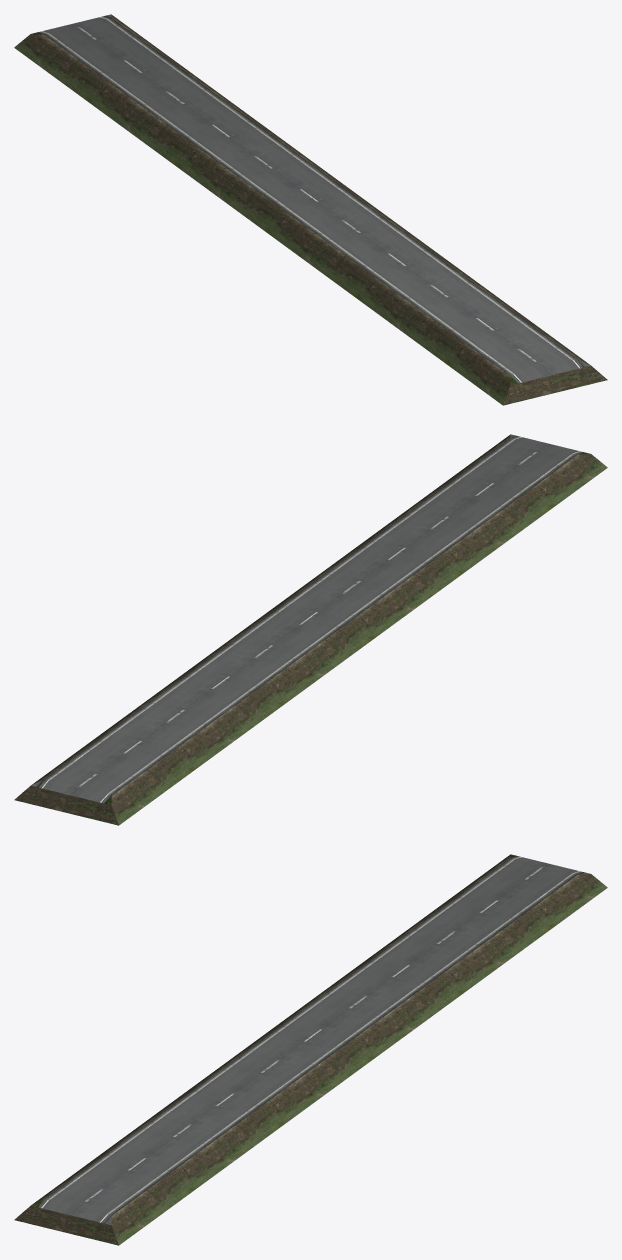
Rendered from 1r_100mAsf.gltf.
3 views of the same model, one above another, from view 1: azimuth 30°, elevation 25°; view 2: azimuth 150°, elevation 25°; view 3: azimuth 330°, elevation 25° (orthographic).
Size of the model in its own units: 13 by 2.01 by 105.
Materials: 1 (1 with a texture image).
